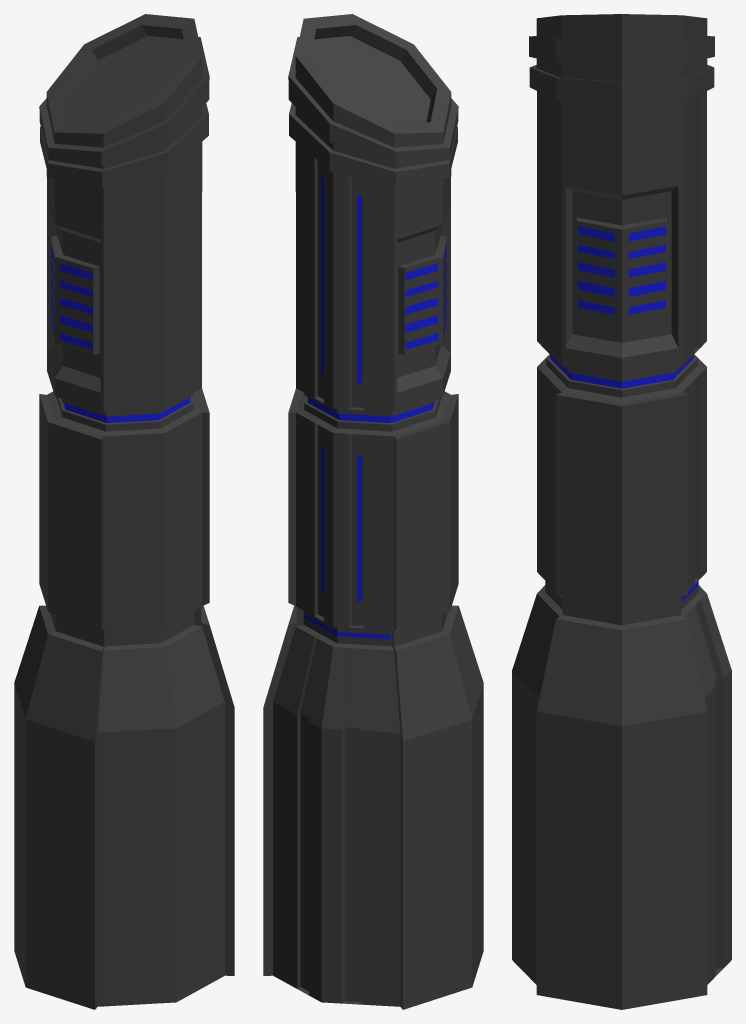
The model's file is Building_V9.fbx.
3 views of the same model, side by side, from view 1: azimuth 30°, elevation 25°; view 2: azimuth 150°, elevation 25°; view 3: azimuth 270°, elevation 25° (orthographic). The views are drawn at different scales.
Visible parts, largest first — view 1: Cylinder; view 2: Cylinder; view 3: Cylinder.
Part boxes in pixels (<box>): Cylinder: <box>14,14,234,1009</box>; Cylinder: <box>263,14,483,1009</box>; Cylinder: <box>512,14,731,1009</box>.
Size of the model in its own units: 8461 by 38092 by 7705.
